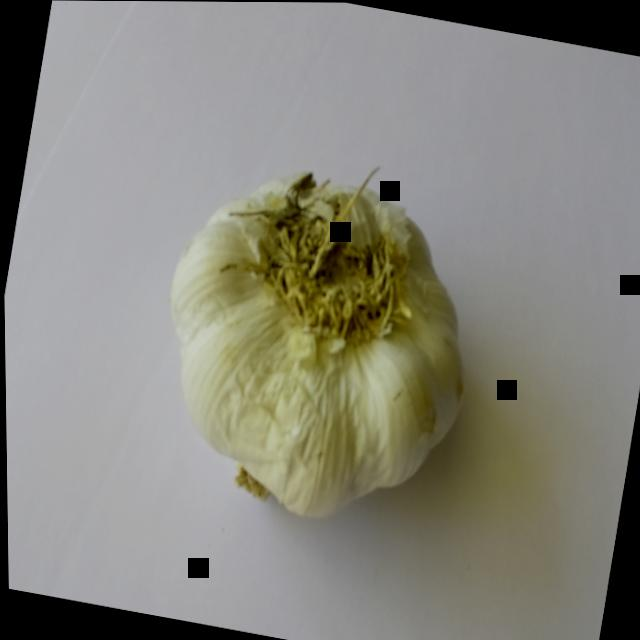Garlic: (107, 84, 520, 566)
